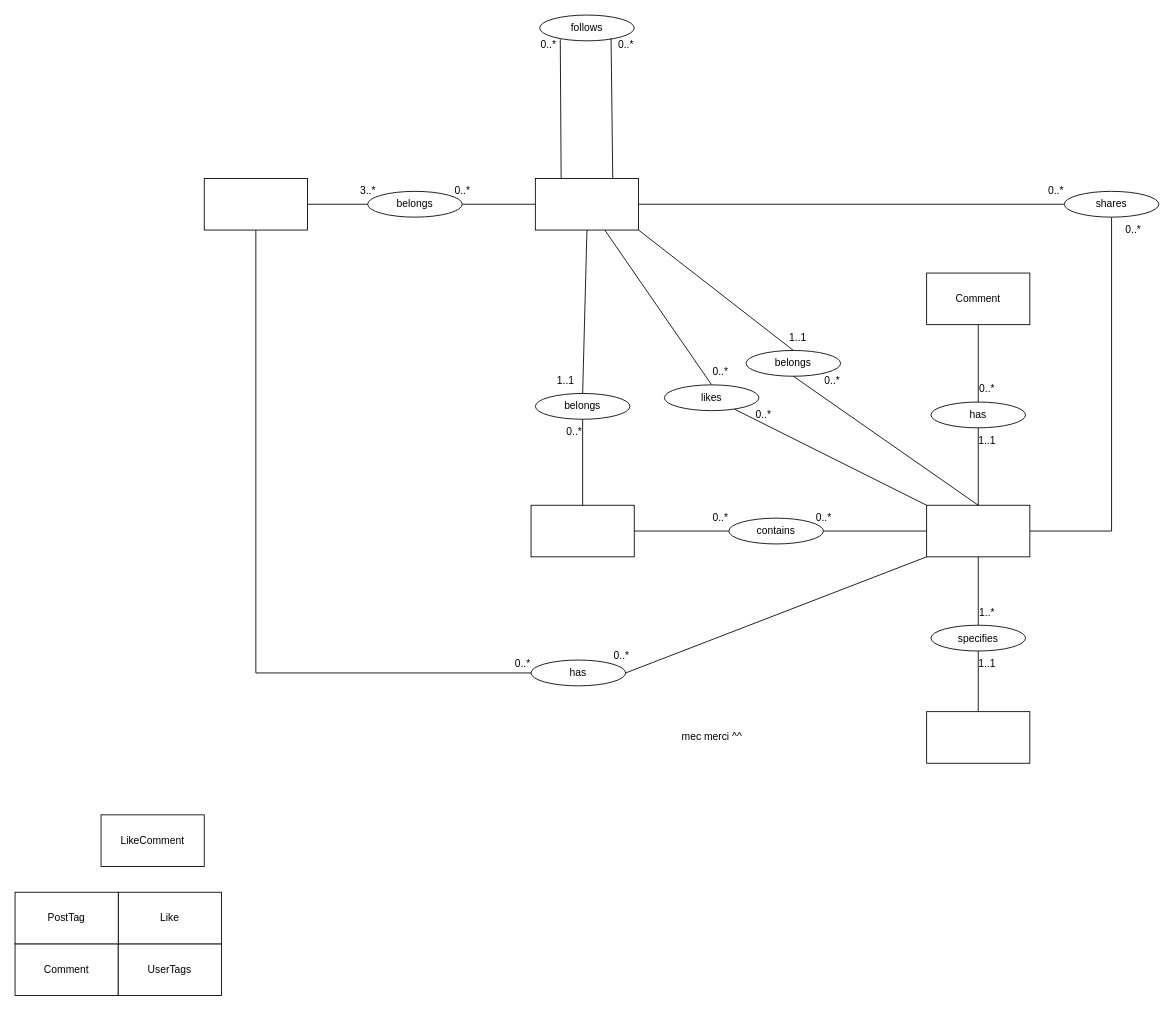
Some shapes in this 1174 by 1011 pixel diagram are drawn without their labels. Each missing label, with the centre of its shape:
"Album" belongs at point 582,530.
"Location" belongs at point 978,737.
"Post" belongs at point 978,530.
"Tag (Interest)" belongs at point 255,204.
"User" belongs at point 586,204.
